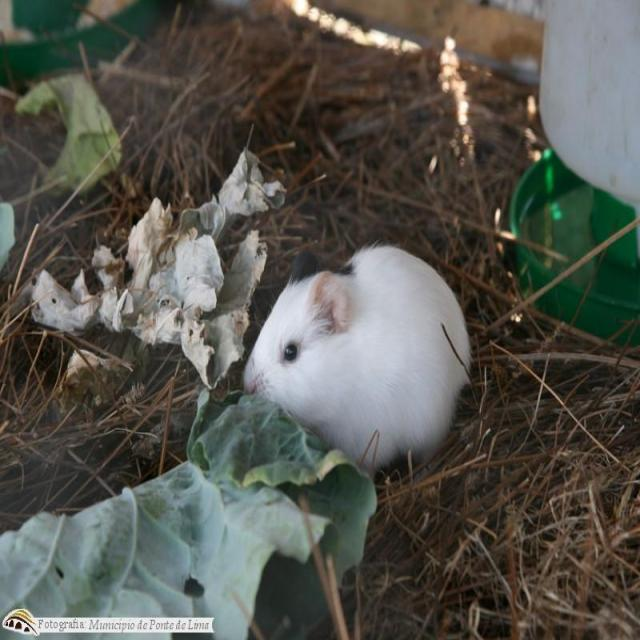guinea pig: (248, 247, 470, 471)
